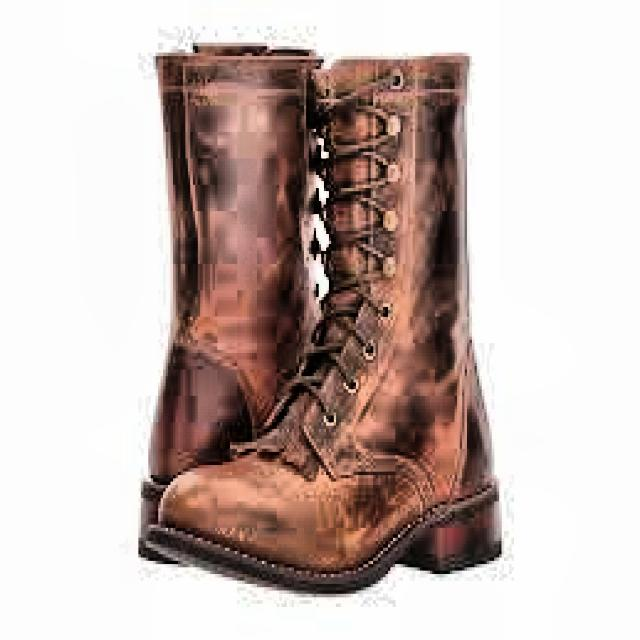shoes: (83, 19, 512, 602)
